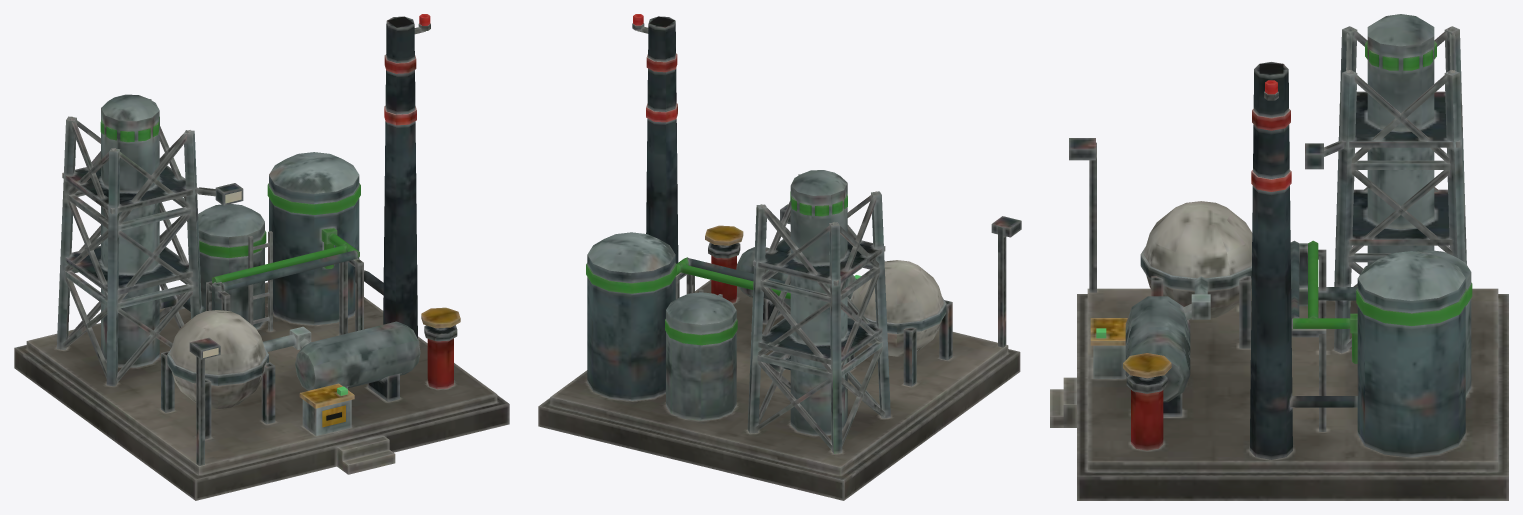
The model's file is chemical_plant.glb.
The picture shows the model from 3 angles, left to right: view 1: azimuth 30°, elevation 25°; view 2: azimuth 150°, elevation 25°; view 3: azimuth 270°, elevation 25°; orthographic projection. The views are drawn at different scales.
Visible parts, largest first — view 1: te_chemical_plant; view 2: te_chemical_plant; view 3: te_chemical_plant.
Boxes of the visible parts, box(x1,y1,x2,y2) form: te_chemical_plant: box(14, 14, 509, 500); te_chemical_plant: box(538, 14, 1021, 500); te_chemical_plant: box(1050, 14, 1508, 500).
Size of the model in its own units: 0.804 by 0.8512 by 0.85.
1 material, 1 textured.
